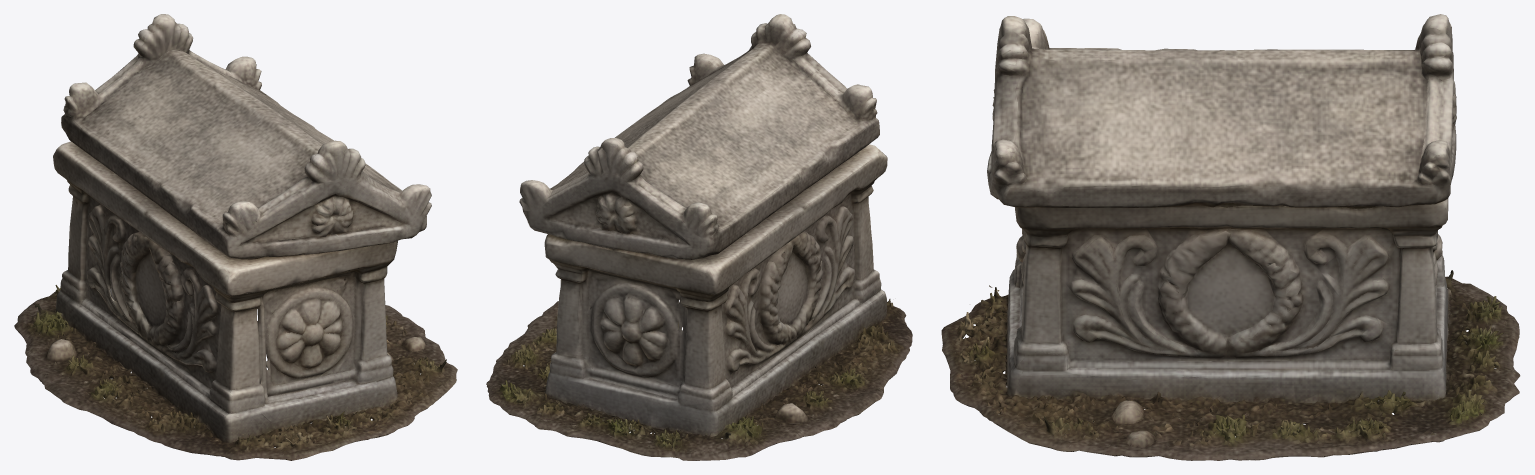
File: grave_22_lidded_sarcophagus.glb
3 views of the same model, side by side, from view 1: azimuth 30°, elevation 25°; view 2: azimuth 150°, elevation 25°; view 3: azimuth 270°, elevation 25° (orthographic). The views are drawn at different scales.
Visible parts, largest first — view 1: world; view 2: world; view 3: world.
Part boxes in pixels (left/top/right/bottom): world: left=14, top=14, right=457, bottom=460; world: left=486, top=14, right=912, bottom=460; world: left=941, top=14, right=1520, bottom=460.
Size of the model in its own units: 0.8571 by 0.6782 by 1.
1 material, 1 textured.
